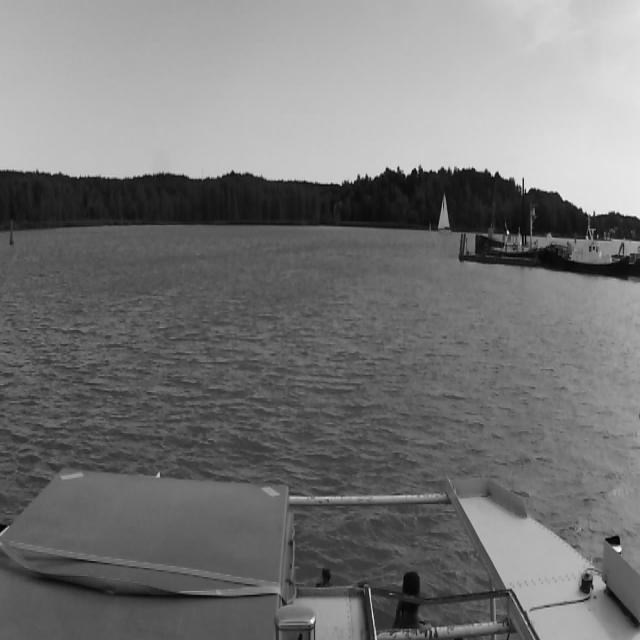buoy: (10, 220, 14, 244)
ship: (542, 227, 628, 278), (475, 226, 542, 254), (438, 192, 452, 235)
